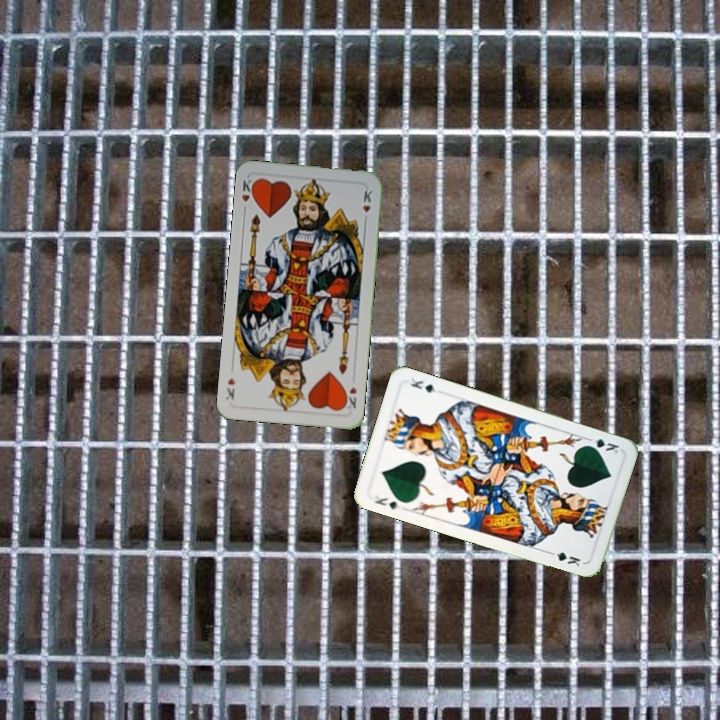GK: (582, 434, 622, 456), (371, 491, 402, 512)
HK: (237, 175, 258, 215), (340, 383, 359, 411)
